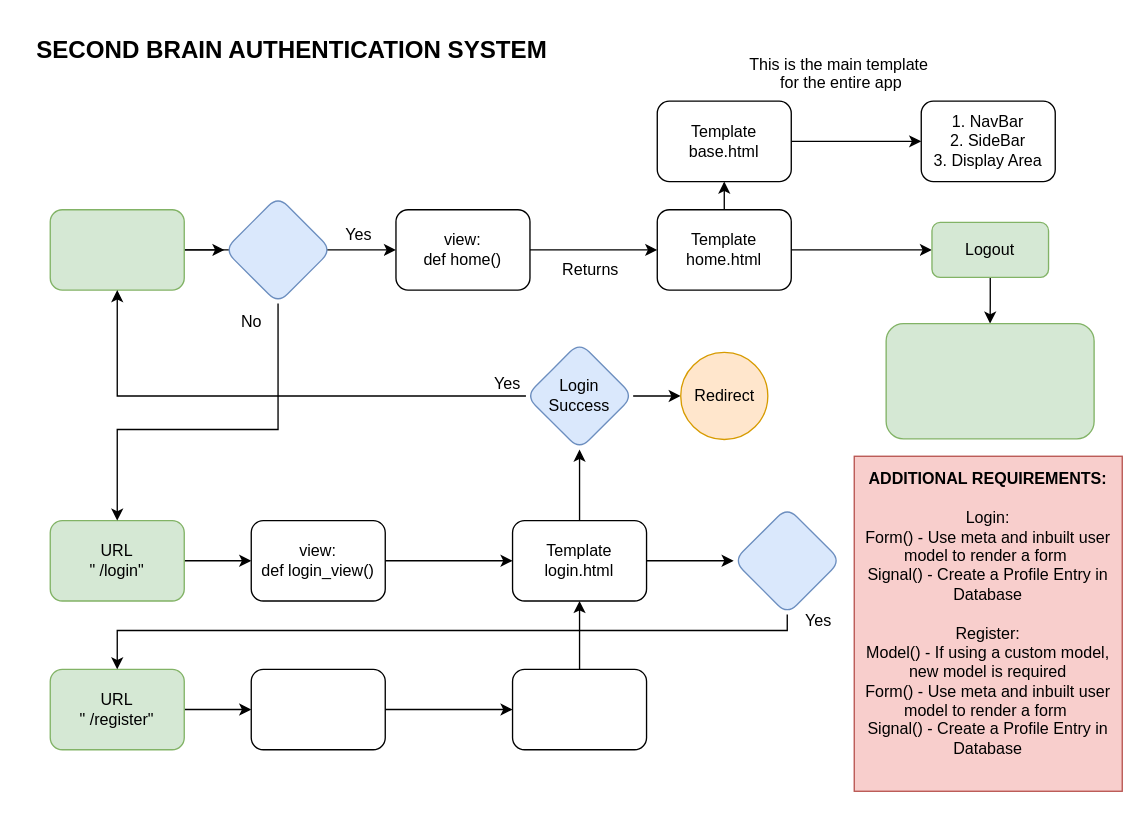
Some shapes in this 1146 by 815 pixel diagram are drawn without their labels. The shapes that lost their labels are listed below. From the top down, each one's box as (x1, y1, x2, y2) in pixels, then its label:
(49, 208, 184, 290): URL " /home"
(223, 195, 332, 304): Logged In?
(885, 322, 1094, 439): URL - "/logout" VIEW - def logout_view() TEMPLATE - logout.html
(732, 506, 841, 614): Create Profle
(250, 668, 385, 750): view: def register()
(511, 668, 647, 750): Template register.html
